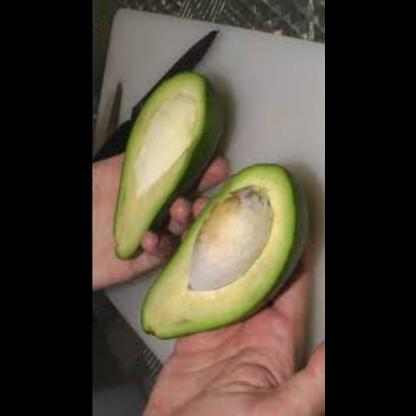avocado: (126, 152, 312, 350), (96, 61, 227, 273)
